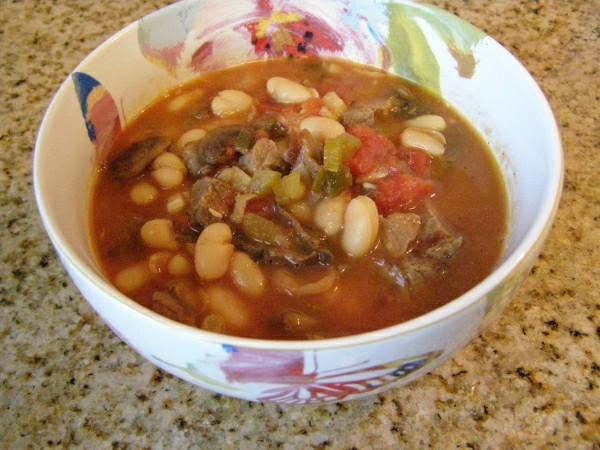RajmaCurry: (89, 57, 509, 343)
